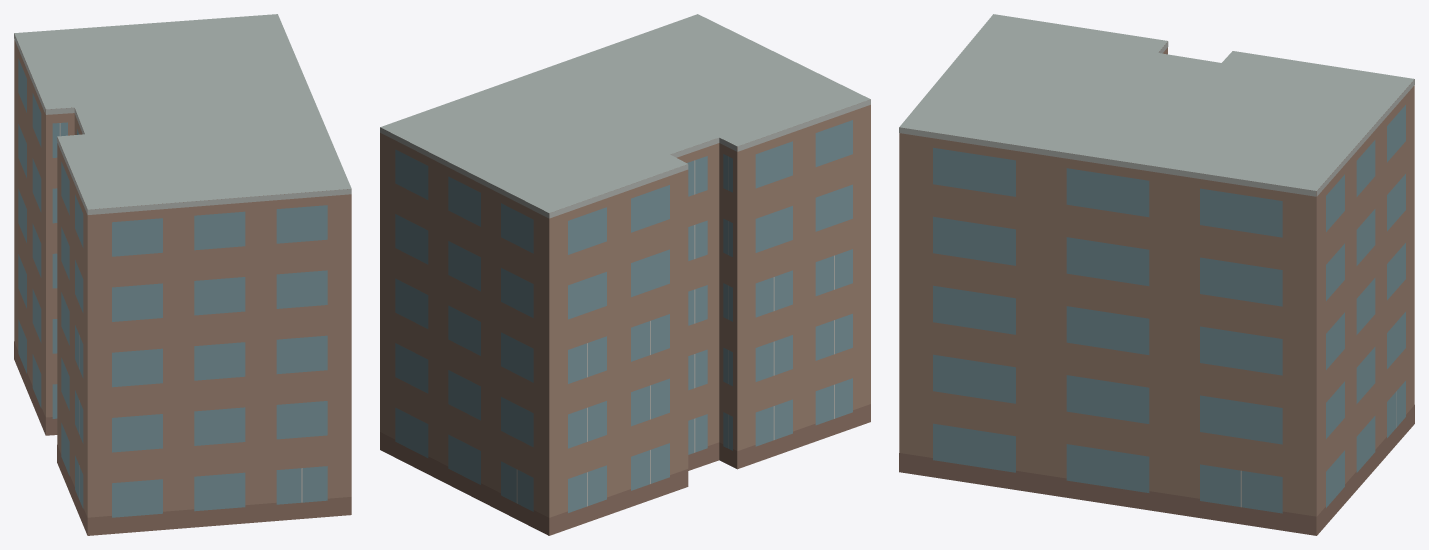
File: survey-upis-32711058.glb
3 views of the same model, side by side, from view 1: azimuth 30°, elevation 25°; view 2: azimuth 150°, elevation 25°; view 3: azimuth 270°, elevation 25° (orthographic). The views are drawn at different scales.
Parts seen in each view (by area): view 1: survey-upis-32711058.tmp; view 2: survey-upis-32711058.tmp; view 3: survey-upis-32711058.tmp.
Boxes of the visible parts, bbox=[...] form: survey-upis-32711058.tmp: bbox=[14, 14, 351, 535]; survey-upis-32711058.tmp: bbox=[380, 14, 870, 535]; survey-upis-32711058.tmp: bbox=[899, 14, 1414, 535].
Bounding box in the file's own units: 15.97 × 14.5 × 19.66.
